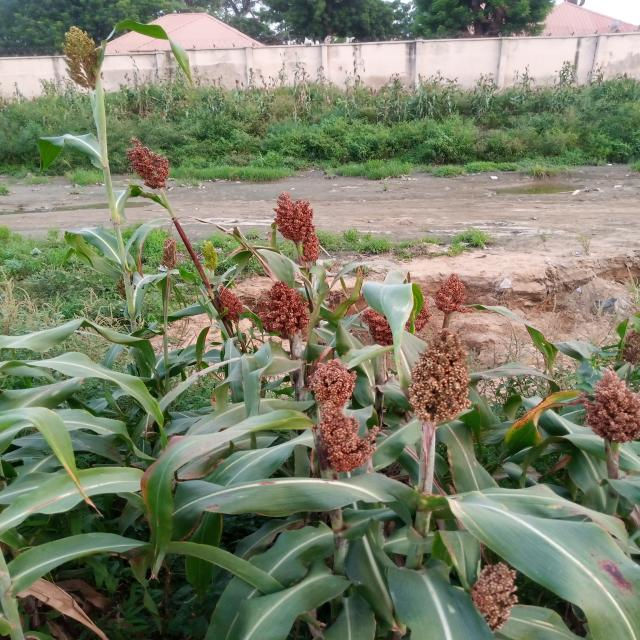RipeSorghum: (252, 196, 345, 266), (245, 275, 330, 346), (131, 129, 191, 202)
